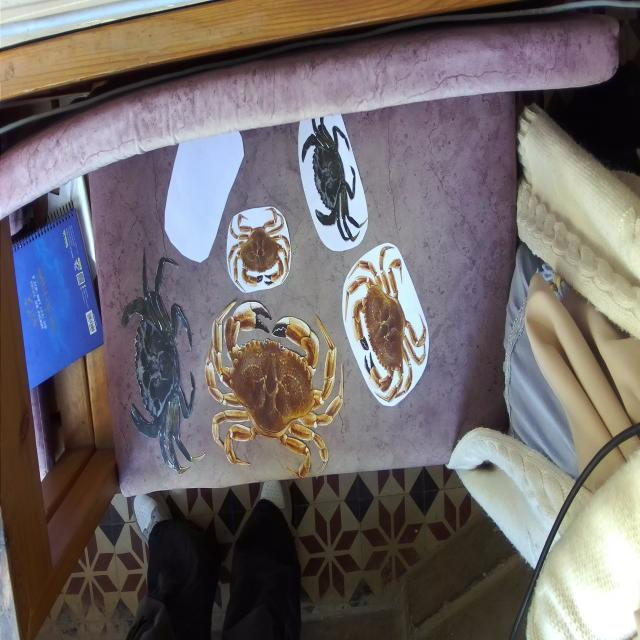European_Green_Crab: (111, 227, 207, 490), (292, 88, 371, 263)
